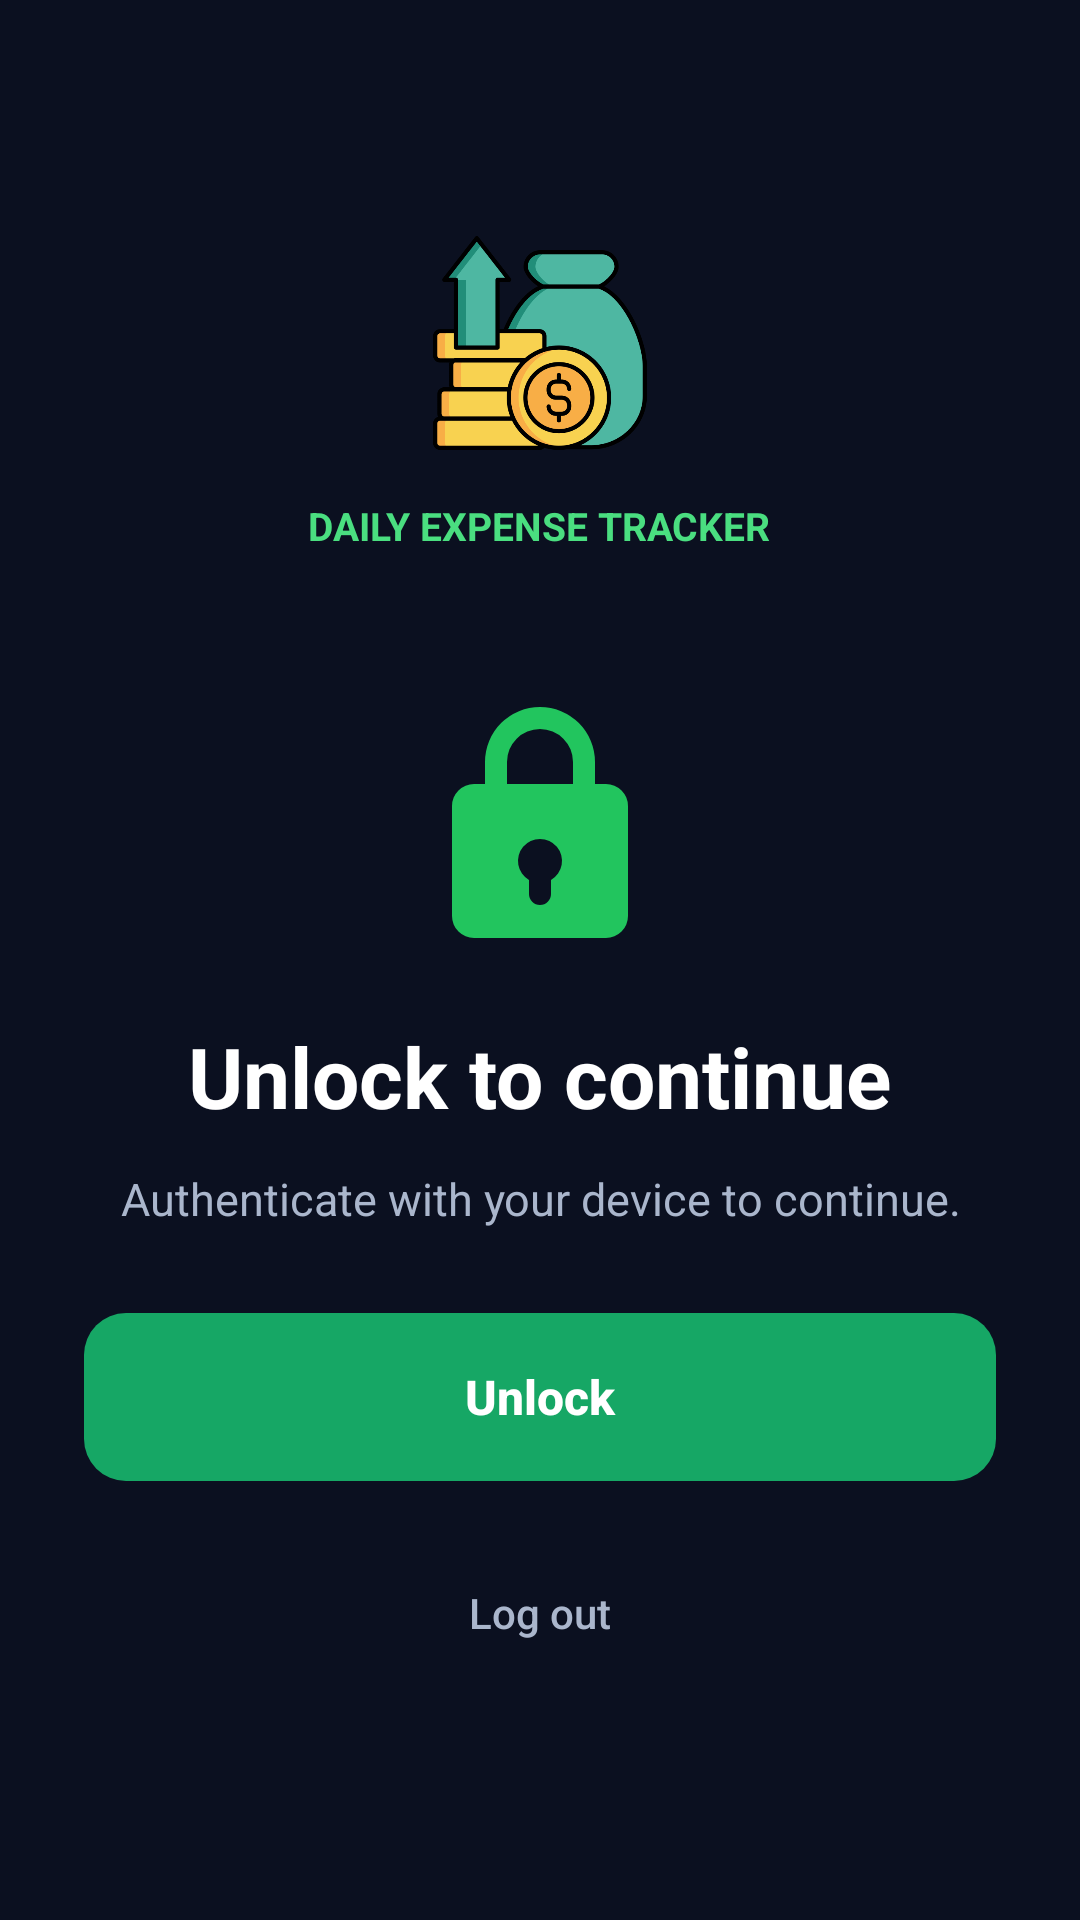

Where to tap for icons on this 1080px x 1920px app screen, as [x,y]:
Locked: [540,822]
